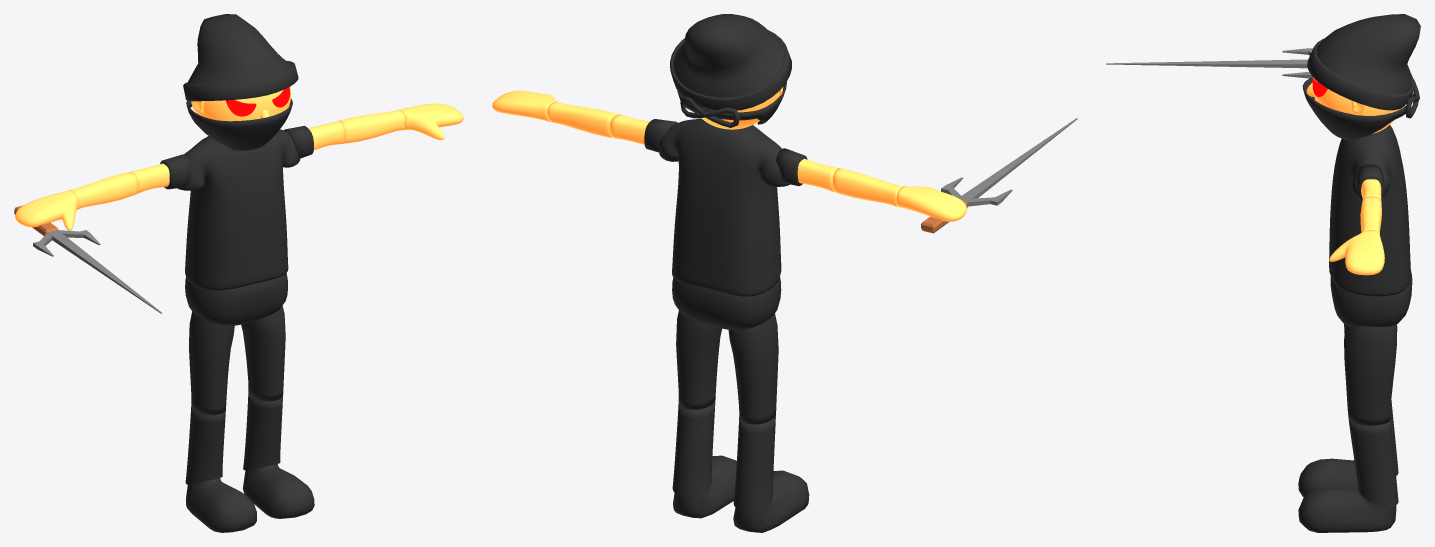
3 views of the same model, side by side, from view 1: azimuth 30°, elevation 25°; view 2: azimuth 150°, elevation 25°; view 3: azimuth 270°, elevation 25° (orthographic). The views are drawn at different scales.
Visible parts, largest first — view 1: body, Hat, r_upper_leg, pelvis, l_upper_leg, l_foot, r_foot, r_leg, l_leg, Mask, r_hand, Sword (+7 smaller); view 2: body, Hat, r_upper_leg, pelvis, l_upper_leg, r_leg, l_leg, r_foot, l_foot, Sword, r_hand, r_forearm (+5 smaller); view 3: body, Hat, l_upper_leg, l_foot, l_leg, pelvis, Mask, l_hand, r_foot, Sword, head, l_arm (+1 smaller).
Boxes of the visible parts, left/top/right/bottom form: body: left=177, top=129, right=300, bottom=290; Hat: left=183, top=14, right=298, bottom=101; r_upper_leg: left=189, top=311, right=234, bottom=415; pelvis: left=185, top=273, right=287, bottom=325; l_upper_leg: left=241, top=306, right=285, bottom=401; l_foot: left=242, top=464, right=314, bottom=518; r_foot: left=186, top=478, right=256, bottom=532; r_leg: left=185, top=407, right=225, bottom=484; l_leg: left=243, top=393, right=282, bottom=470; Mask: left=186, top=99, right=292, bottom=150; r_hand: left=15, top=190, right=78, bottom=230; Sword: left=14, top=205, right=161, bottom=313; body: left=659, top=118, right=789, bottom=296; Hat: left=670, top=14, right=791, bottom=110; r_upper_leg: left=728, top=314, right=778, bottom=424; pelvis: left=672, top=277, right=781, bottom=329; l_upper_leg: left=676, top=310, right=721, bottom=409; r_leg: left=733, top=415, right=775, bottom=512; l_leg: left=672, top=401, right=715, bottom=497; r_foot: left=733, top=470, right=809, bottom=532; l_foot: left=673, top=455, right=736, bottom=518; Sword: left=921, top=118, right=1077, bottom=233; r_hand: left=896, top=186, right=966, bottom=221; r_forearm: left=832, top=168, right=902, bottom=206; body: left=1329, top=125, right=1410, bottom=296; Hat: left=1307, top=14, right=1420, bottom=110; l_upper_leg: left=1344, top=324, right=1397, bottom=425; l_foot: left=1298, top=487, right=1396, bottom=532; l_leg: left=1348, top=419, right=1398, bottom=507; pelvis: left=1330, top=269, right=1412, bottom=326; Mask: left=1302, top=77, right=1419, bottom=140; l_hand: left=1329, top=230, right=1384, bottom=275; r_foot: left=1298, top=458, right=1358, bottom=497; Sword: left=1106, top=48, right=1312, bottom=78; head: left=1306, top=77, right=1402, bottom=133; l_arm: left=1355, top=164, right=1383, bottom=202.
Bounding box in the file's own units: 3.25 × 3.28 × 1.9.
